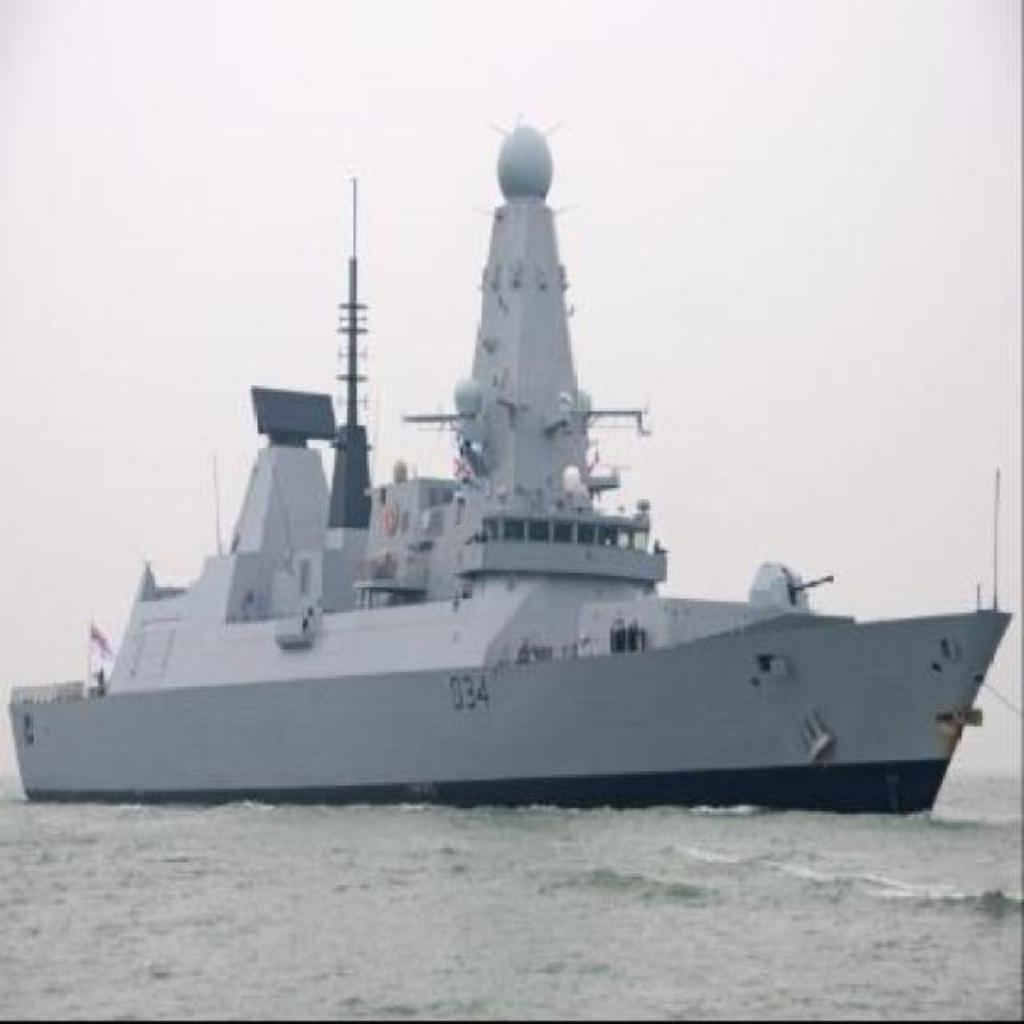Warship: (2, 108, 1018, 820)
